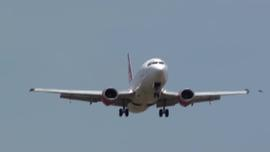aircraft: (29, 51, 250, 118)
